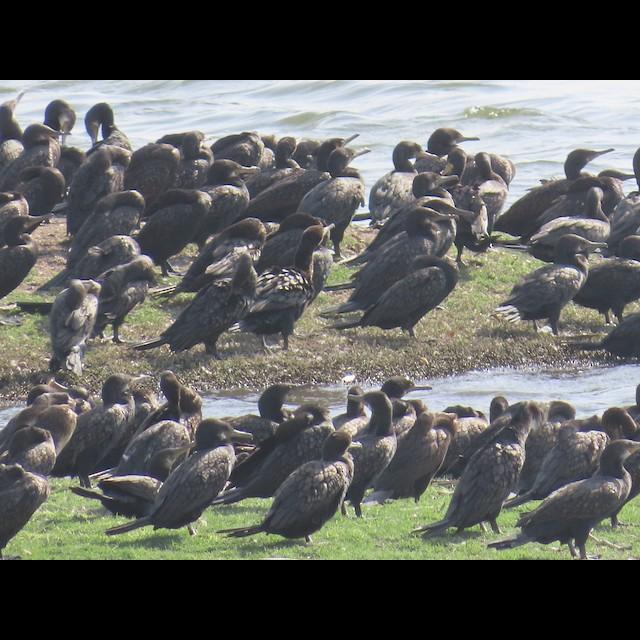cormorant: (483, 437, 640, 558), (104, 419, 256, 536), (254, 429, 364, 546), (488, 232, 612, 334), (332, 252, 463, 338)
